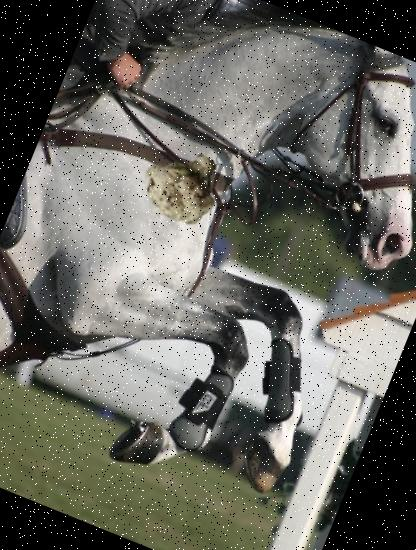Cauliflower: (130, 132, 233, 236)
